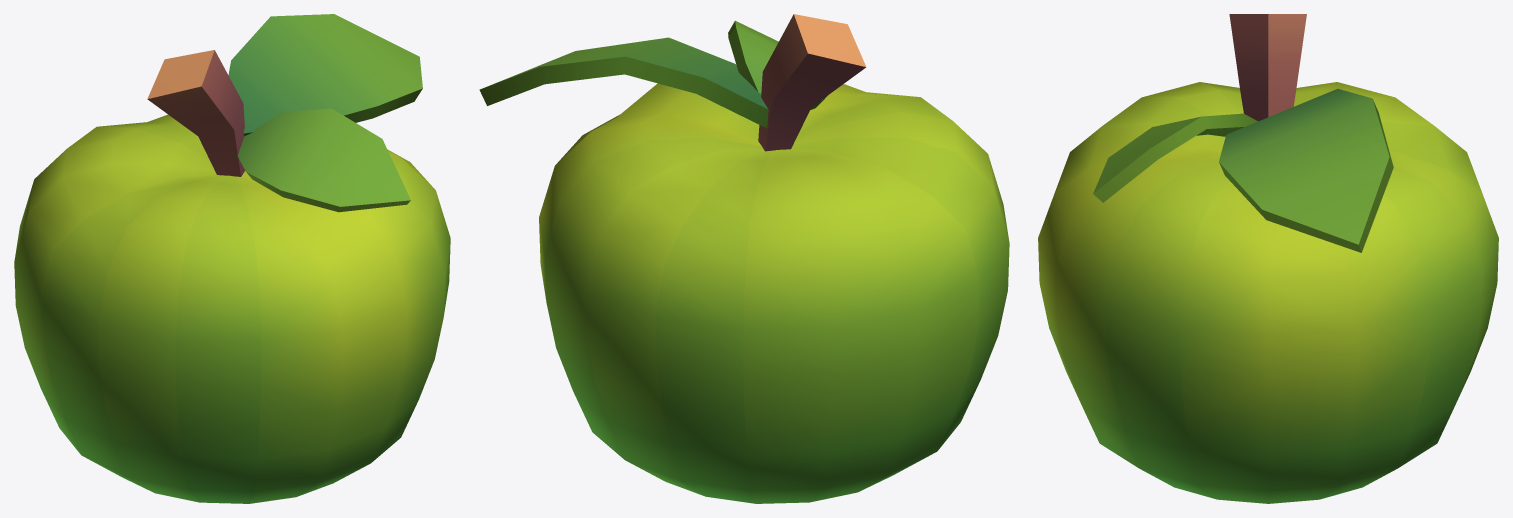
The model's file is Apple_Whole_Green_01.fbx.
3 renders of one model, left to right at view 1: azimuth 30°, elevation 25°; view 2: azimuth 150°, elevation 25°; view 3: azimuth 270°, elevation 25°, orthographic. The views are drawn at different scales.
Parts seen in each view (by area): view 1: Apple_Whole_Green_01; view 2: Apple_Whole_Green_01; view 3: Apple_Whole_Green_01.
Part boxes in pixels (x1,y1,x2,y2): Apple_Whole_Green_01: (14, 14, 450, 503); Apple_Whole_Green_01: (479, 14, 1009, 503); Apple_Whole_Green_01: (1038, 14, 1498, 503).
Bounding box in the file's own units: 0.4782 × 0.4625 × 0.433.
